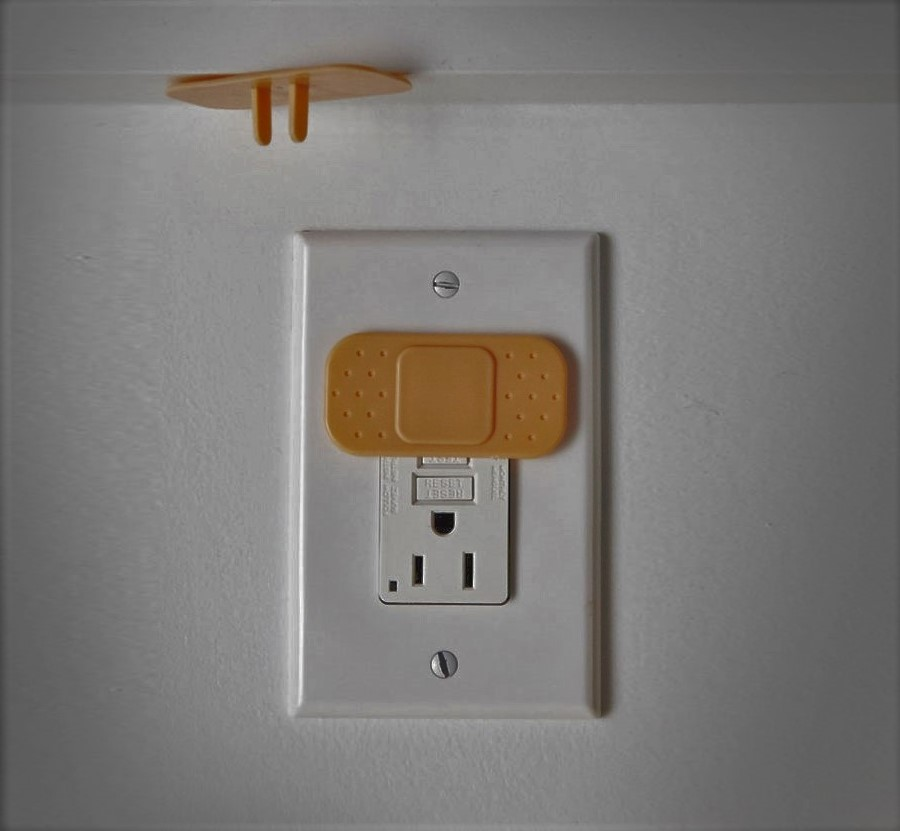outlet: (400, 503, 486, 596)
